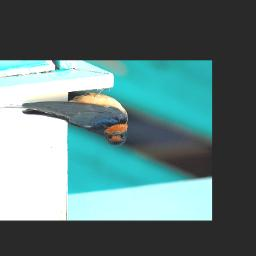Swallow: (0, 89, 132, 149)
